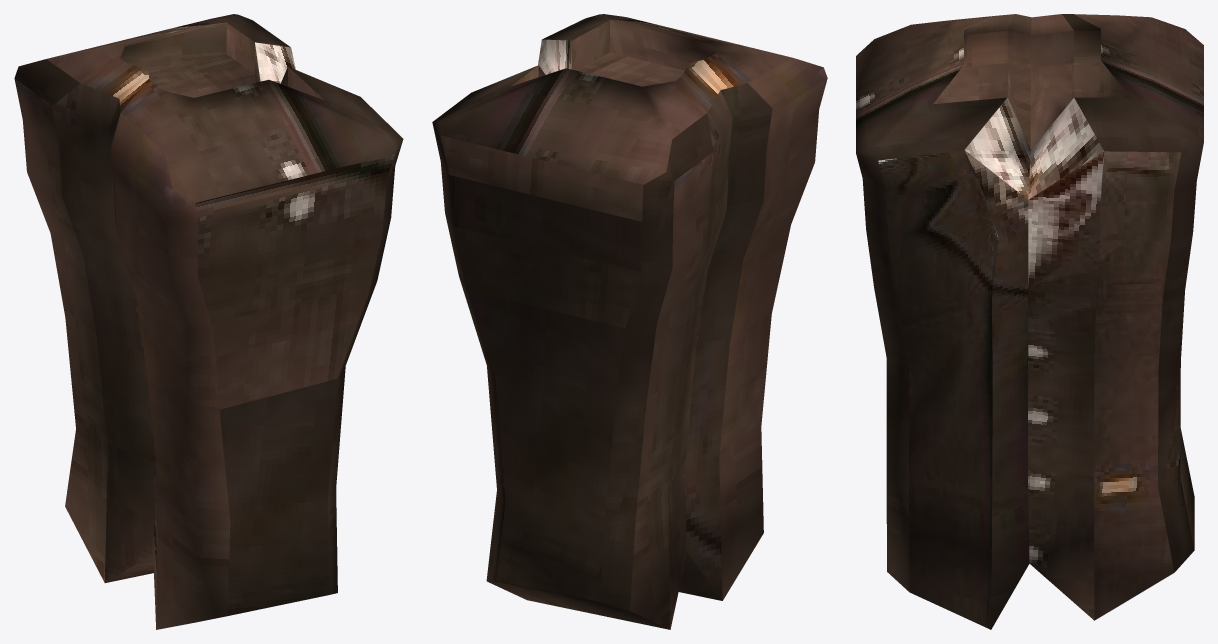
File: cowboyjacket.glb
3 views of the same model, side by side, from view 1: azimuth 30°, elevation 25°; view 2: azimuth 150°, elevation 25°; view 3: azimuth 270°, elevation 25° (orthographic).
Parts seen in each view (by area): view 1: cowboyjacket; view 2: cowboyjacket; view 3: cowboyjacket.
Part boxes in pixels (x1,y1,x2,y2): cowboyjacket: (14, 14, 403, 629); cowboyjacket: (432, 14, 827, 629); cowboyjacket: (856, 14, 1203, 629).
Size of the model in its own units: 1.62 by 3.54 by 2.03.
Materials: 1 (1 with a texture image).
